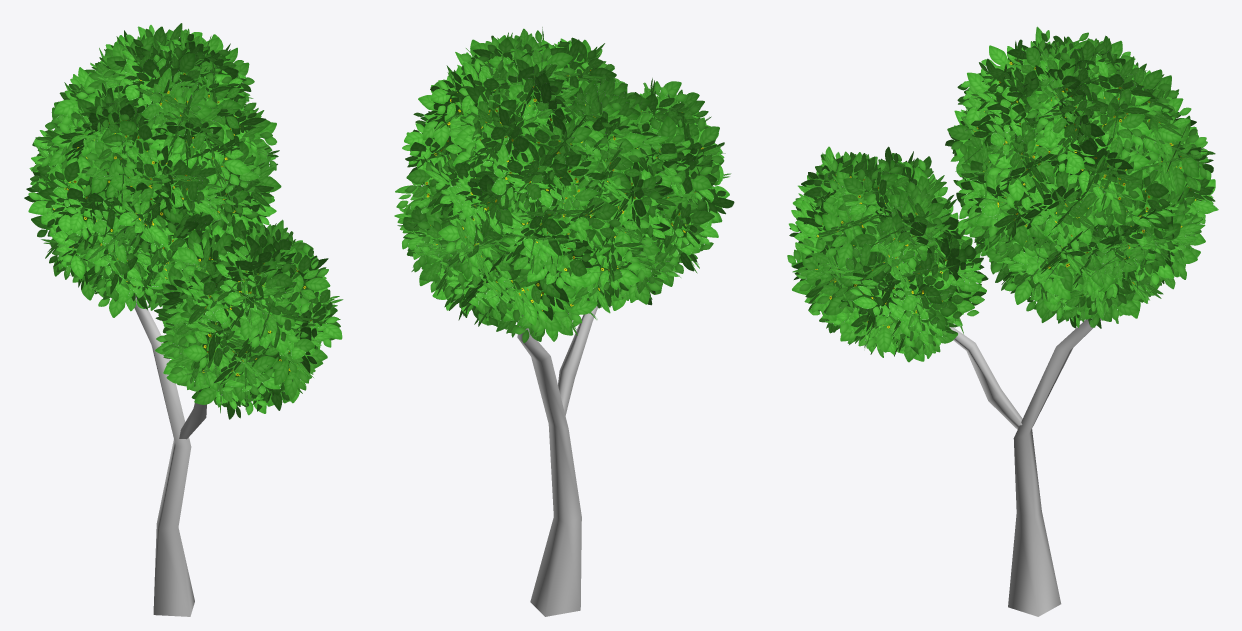
Rendered from FluffyTree.fbx.
The picture shows the model from 3 angles, left to right: view 1: azimuth 30°, elevation 25°; view 2: azimuth 150°, elevation 25°; view 3: azimuth 270°, elevation 25°; orthographic projection. The views are drawn at different scales.
Parts seen in each view (by area): view 1: LeafTri_LOD0, tree; view 2: LeafTri_LOD0, tree; view 3: LeafTri_LOD0, tree.
Boxes of the visible parts, box(x1,y1,x2,y2) form: LeafTri_LOD0: box(24, 23, 343, 419); tree: box(134, 296, 206, 616); LeafTri_LOD0: box(394, 27, 734, 342); tree: box(517, 306, 597, 616); LeafTri_LOD0: box(787, 26, 1218, 362); tree: box(949, 318, 1101, 616).
Size of what is drawn, in the model's own units: 7.56 by 16.53 by 11.67.
